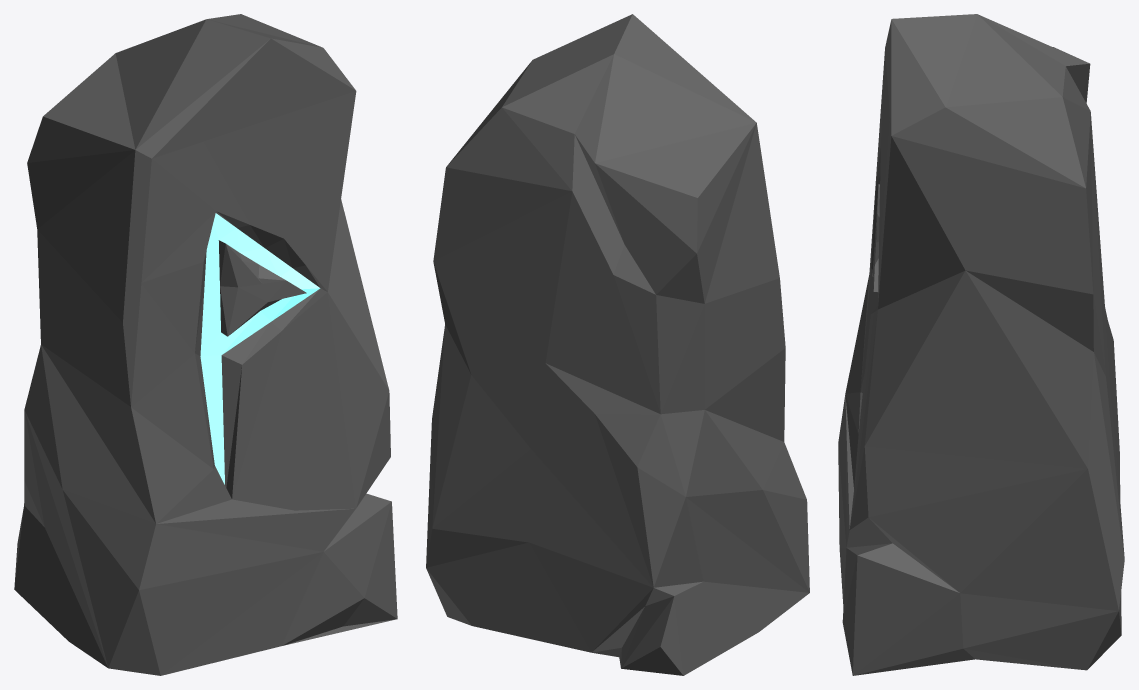
File: SFNP_Runestone_004.fbx
3 views of the same model, side by side, from view 1: azimuth 30°, elevation 25°; view 2: azimuth 150°, elevation 25°; view 3: azimuth 270°, elevation 25° (orthographic). The views are drawn at different scales.
Visible parts, largest first — view 1: SFNP_Runestone_004; view 2: SFNP_Runestone_004; view 3: SFNP_Runestone_004.
Part boxes in pixels (box(x1,y1,x2,y2)): SFNP_Runestone_004: box(14, 14, 397, 675); SFNP_Runestone_004: box(426, 14, 809, 675); SFNP_Runestone_004: box(838, 14, 1124, 675).
Size of the model in its own units: 56.58 by 113 by 47.46.
